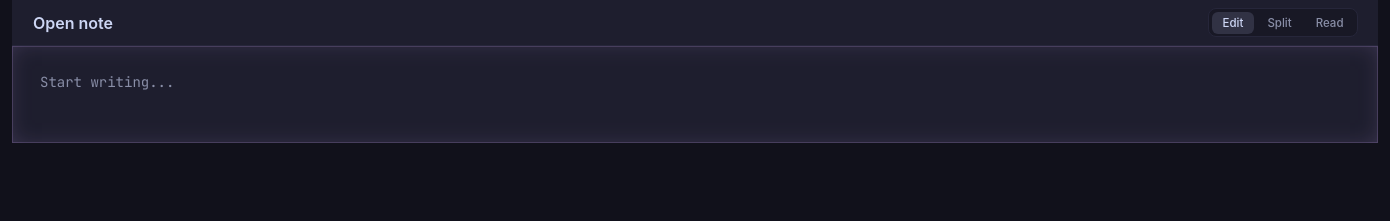
Link autocomplete (#548) › closes when the caret moves out of the link, and does not open by moving in
The image size is (1390, 221).
Type "Hello [ [pl" into the text box with class "editor-textarea" at (695, 94), box [12,46,1378,143]
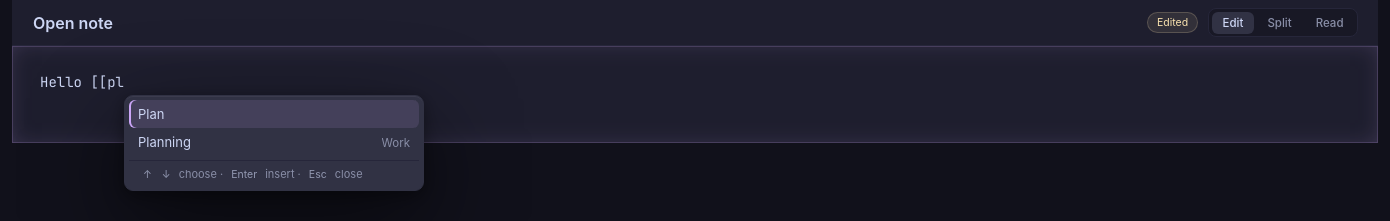
Result: the list is shown at [129,100,419,156]
Press ArrowLeft in the text box with class "editor-textarea", box [12,46,1378,143]
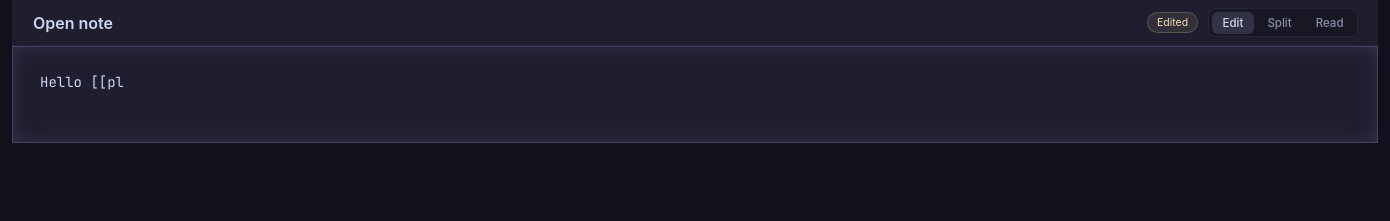
Result: the list is gone
